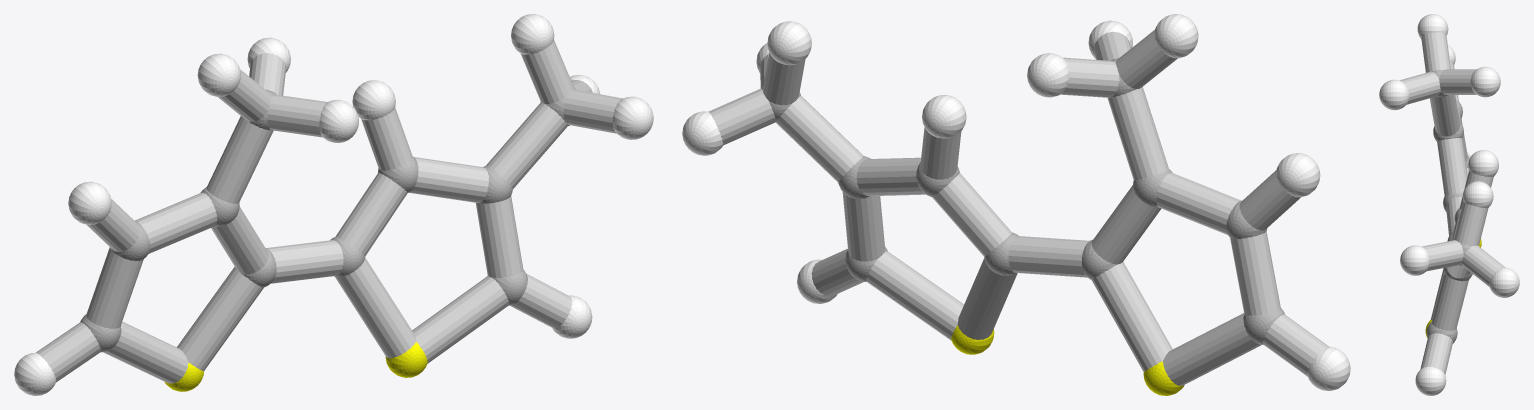
Rendered from Methylthiophene_Phi_10_Theta_160_Methylthiophene.glb.
The picture shows the model from 3 angles, left to right: view 1: azimuth 30°, elevation 25°; view 2: azimuth 150°, elevation 25°; view 3: azimuth 270°, elevation 25°; orthographic projection. The views are drawn at different scales.
Parts seen in each view (by area): view 1: grp7965, grp3621, grp1, grp7241; view 2: grp7965, grp3621, grp1, grp7241; view 3: grp7965, grp3621, grp1.
Part boxes in pixels (x1,y1,x2,y2): grp7965: (36,40,622,383); grp3621: (14,14,653,395); grp1: (80,88,576,352); grp7241: (164,342,427,391); grp7965: (709,30,1329,385); grp3621: (682,14,1350,390); grp1: (761,58,1284,344); grp7241: (951,325,1184,395); grp7965: (1400,32,1504,374); grp3621: (1379,14,1519,395); grp1: (1427,70,1472,343).
Size of the model in its own units: 9.77 by 5.65 by 2.74.
